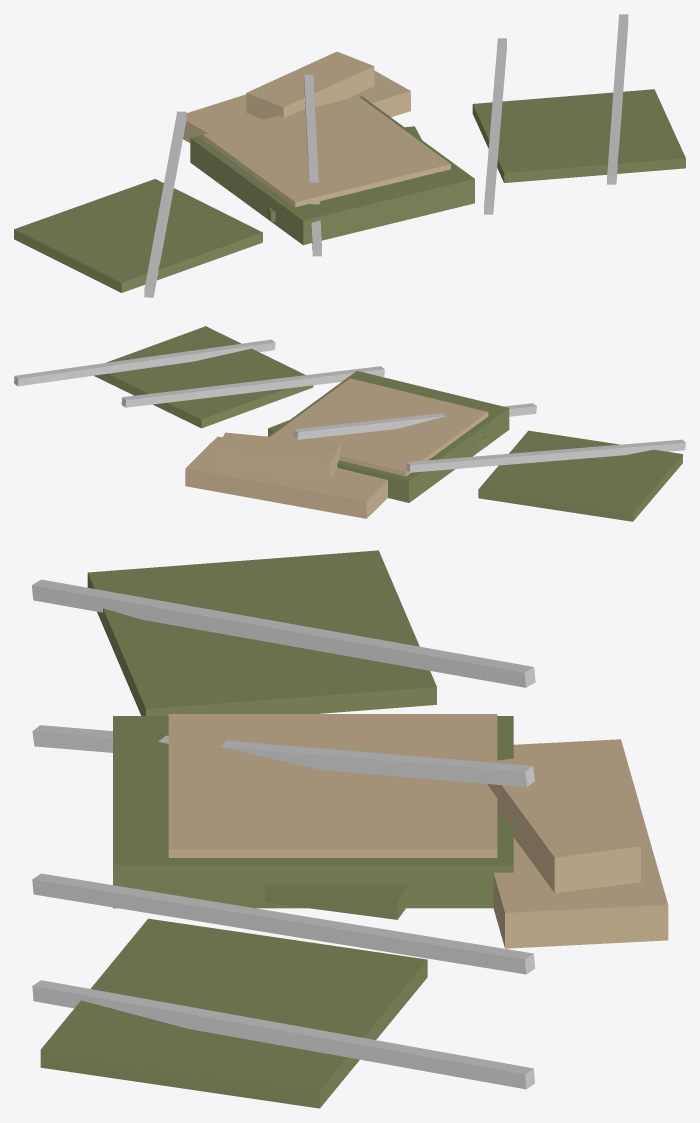
File: SM_HescoCorto1_v2_Escalonado_e3_Brecha_LOD0.fbx
3 views of the same model, one above another, from view 1: azimuth 30°, elevation 25°; view 2: azimuth 150°, elevation 25°; view 3: azimuth 270°, elevation 25° (orthographic). The views are drawn at different scales.
Parts seen in each view (by area): view 1: SM_hesco_piezas_v51_LOD0; view 2: SM_hesco_piezas_v51_LOD0; view 3: SM_hesco_piezas_v51_LOD0.
Boxes of the visible parts, bbox=[...] form: SM_hesco_piezas_v51_LOD0: bbox=[14, 14, 685, 297]; SM_hesco_piezas_v51_LOD0: bbox=[14, 326, 685, 521]; SM_hesco_piezas_v51_LOD0: bbox=[32, 550, 668, 1108].
Bounding box in the file's own units: 4.09 × 0.3263 × 1.94.
